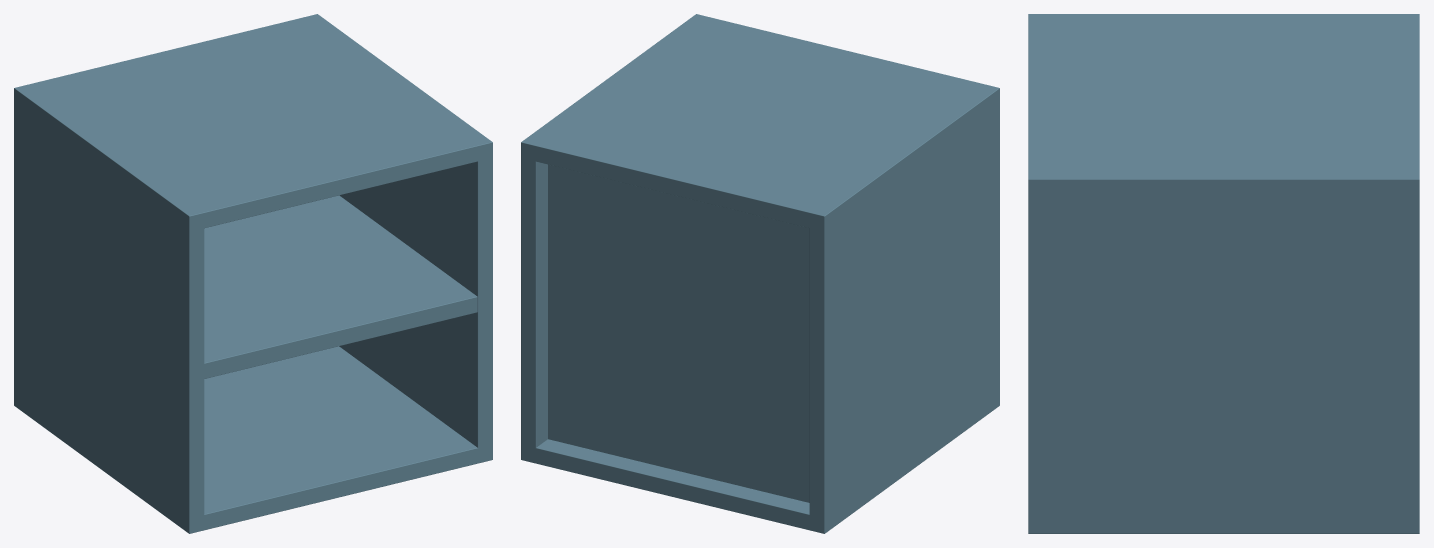
File: MOD-1X1-S-B-AC.glb
The picture shows the model from 3 angles, left to right: view 1: azimuth 30°, elevation 25°; view 2: azimuth 150°, elevation 25°; view 3: azimuth 270°, elevation 25°; orthographic projection. The views are drawn at different scales.
Bounding box in the file's own units: 360 × 360 × 360.
